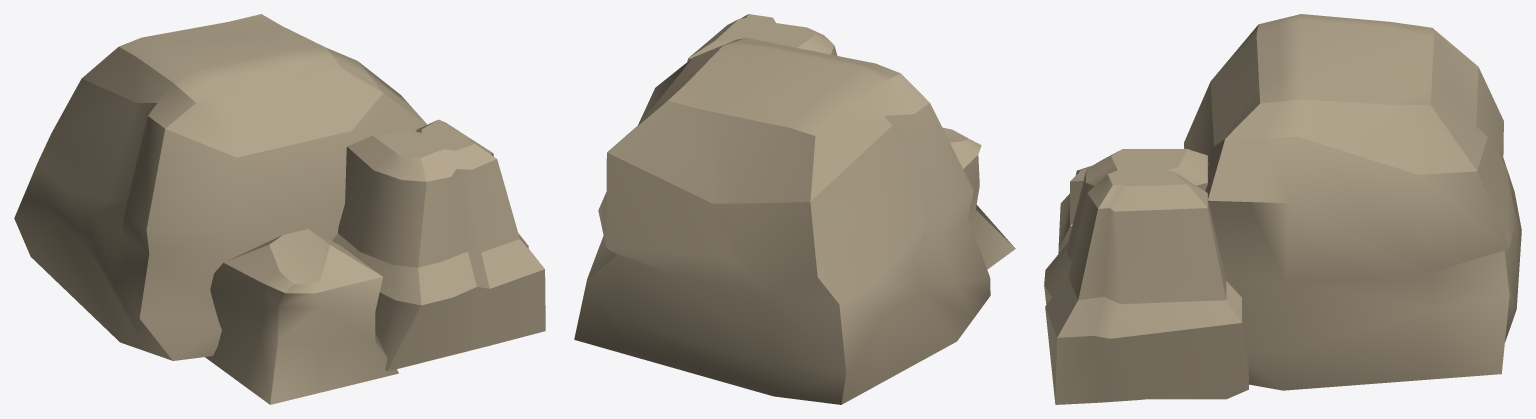
The model's file is placing_stones_gamejam.fbx.
3 renders of one model, left to right at view 1: azimuth 30°, elevation 25°; view 2: azimuth 150°, elevation 25°; view 3: azimuth 270°, elevation 25°, orthographic. The views are drawn at different scales.
Parts seen in each view (by area): view 1: stone1, stone3, stone2; view 2: stone1, stone3, stone2; view 3: stone1, stone3, stone2.
Part boxes in pixels (left/top/right/bottom): stone1: left=14, top=14, right=427, bottom=360; stone3: left=332, top=119, right=545, bottom=371; stone2: left=205, top=229, right=398, bottom=404; stone1: left=574, top=38, right=990, bottom=404; stone3: left=687, top=14, right=837, bottom=61; stone2: left=943, top=127, right=1015, bottom=269; stone1: left=1184, top=14, right=1521, bottom=390; stone3: left=1044, top=149, right=1248, bottom=404; stone2: left=1058, top=166, right=1091, bottom=253.
Bounding box in the file's own units: 2.84 × 2.03 × 3.19.
